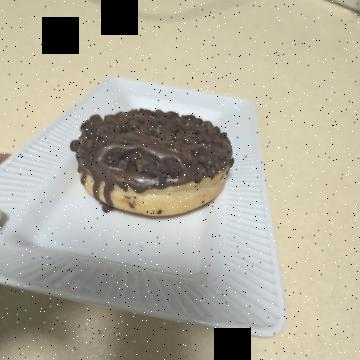doughnut: (90, 108, 222, 294)
